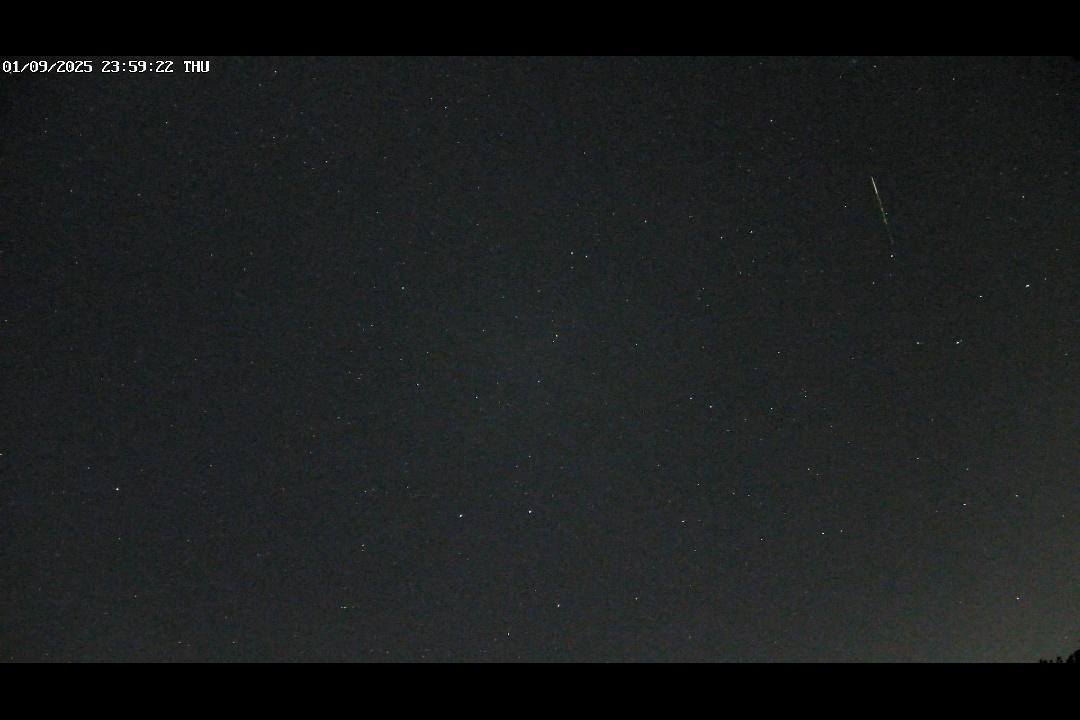meteorite: (868, 175, 899, 246)
